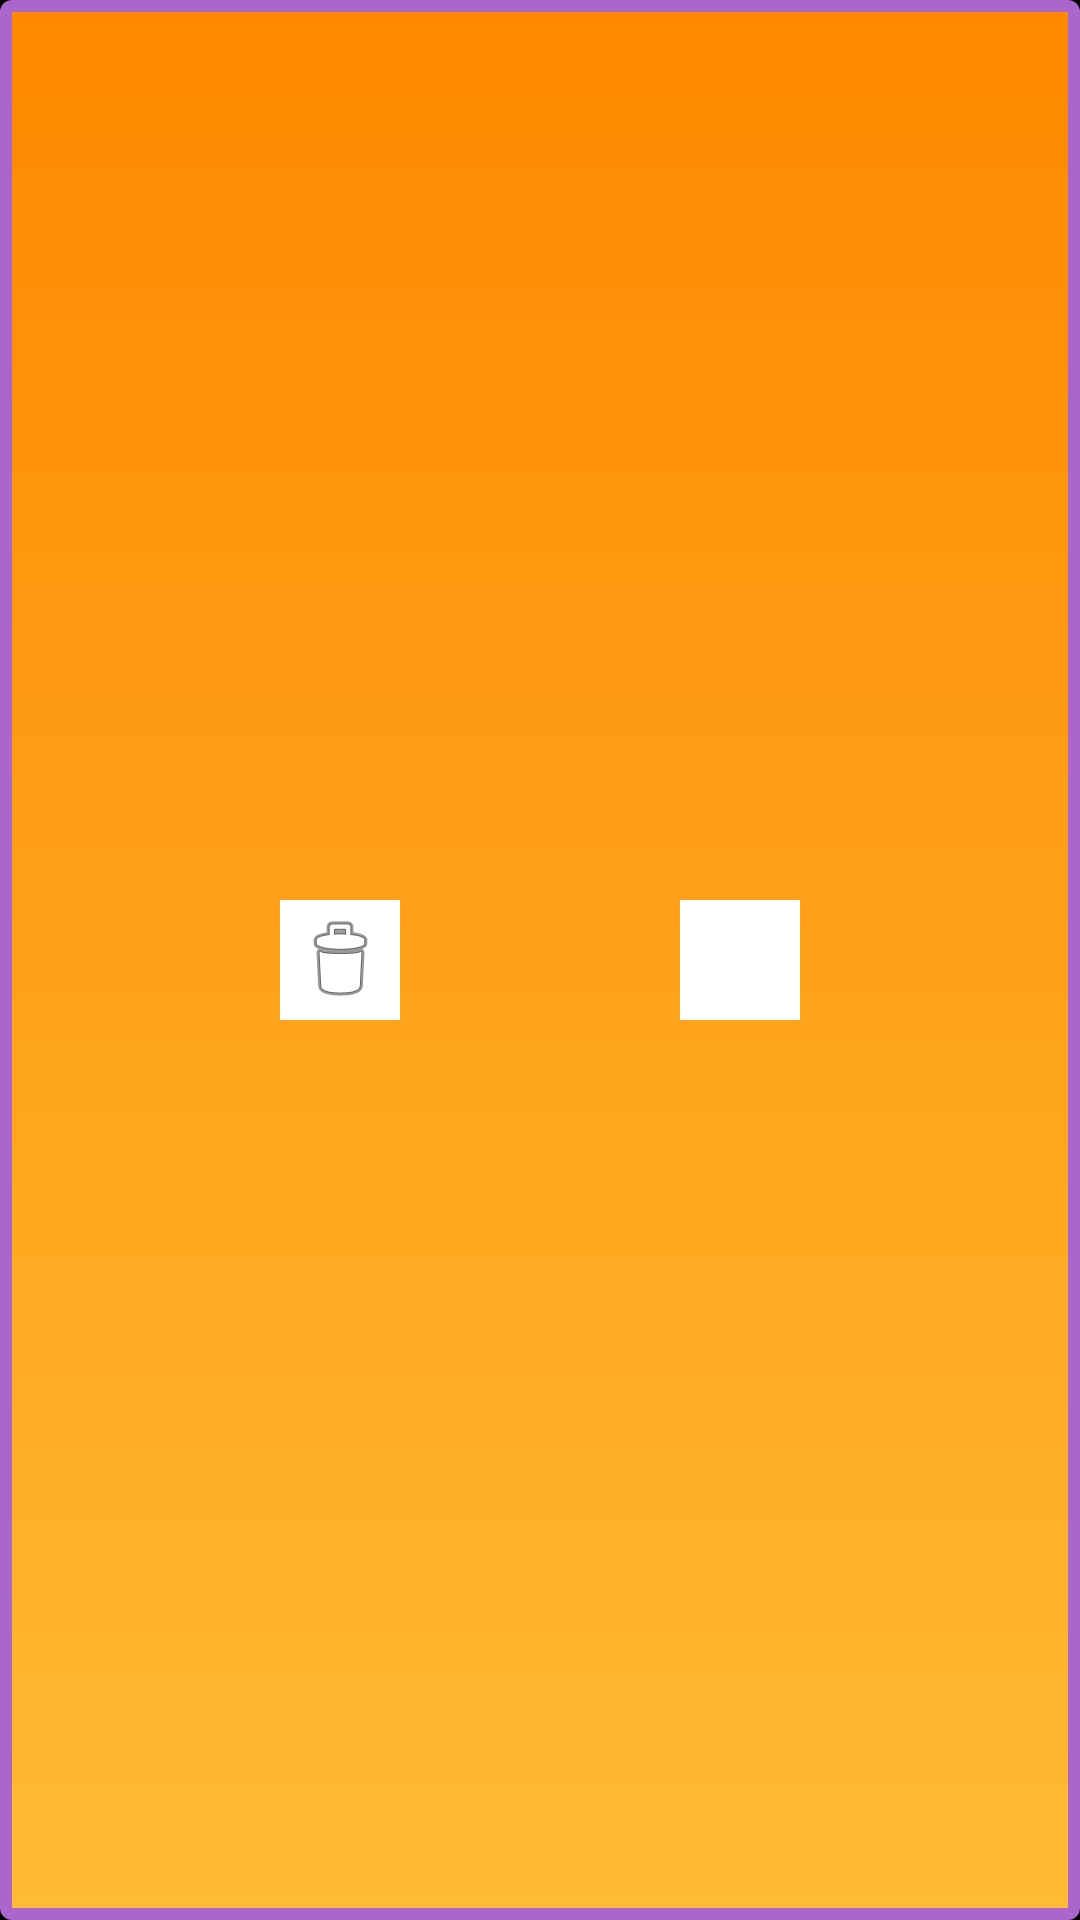

Screen size 1080*1920. Icon name, then its center in pixels as (x,y):
delete: (340,960)
